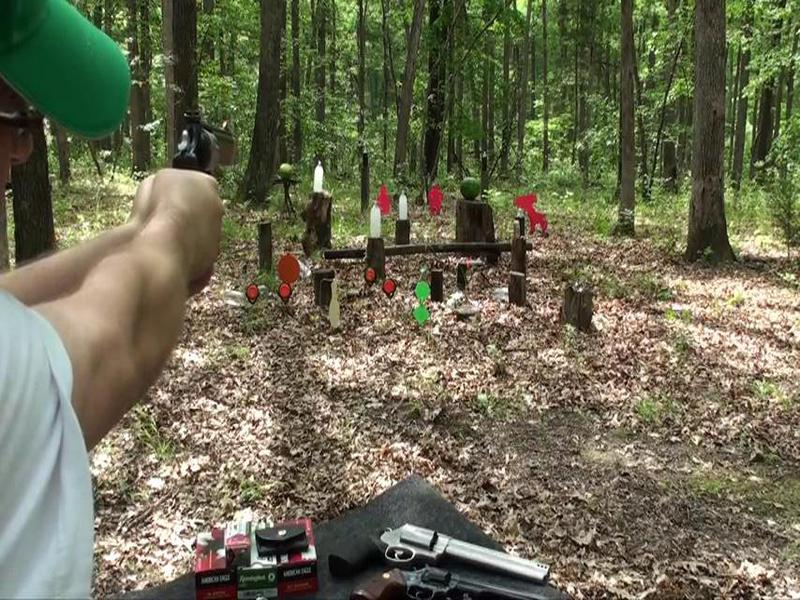Revolver: (167, 97, 259, 213)
